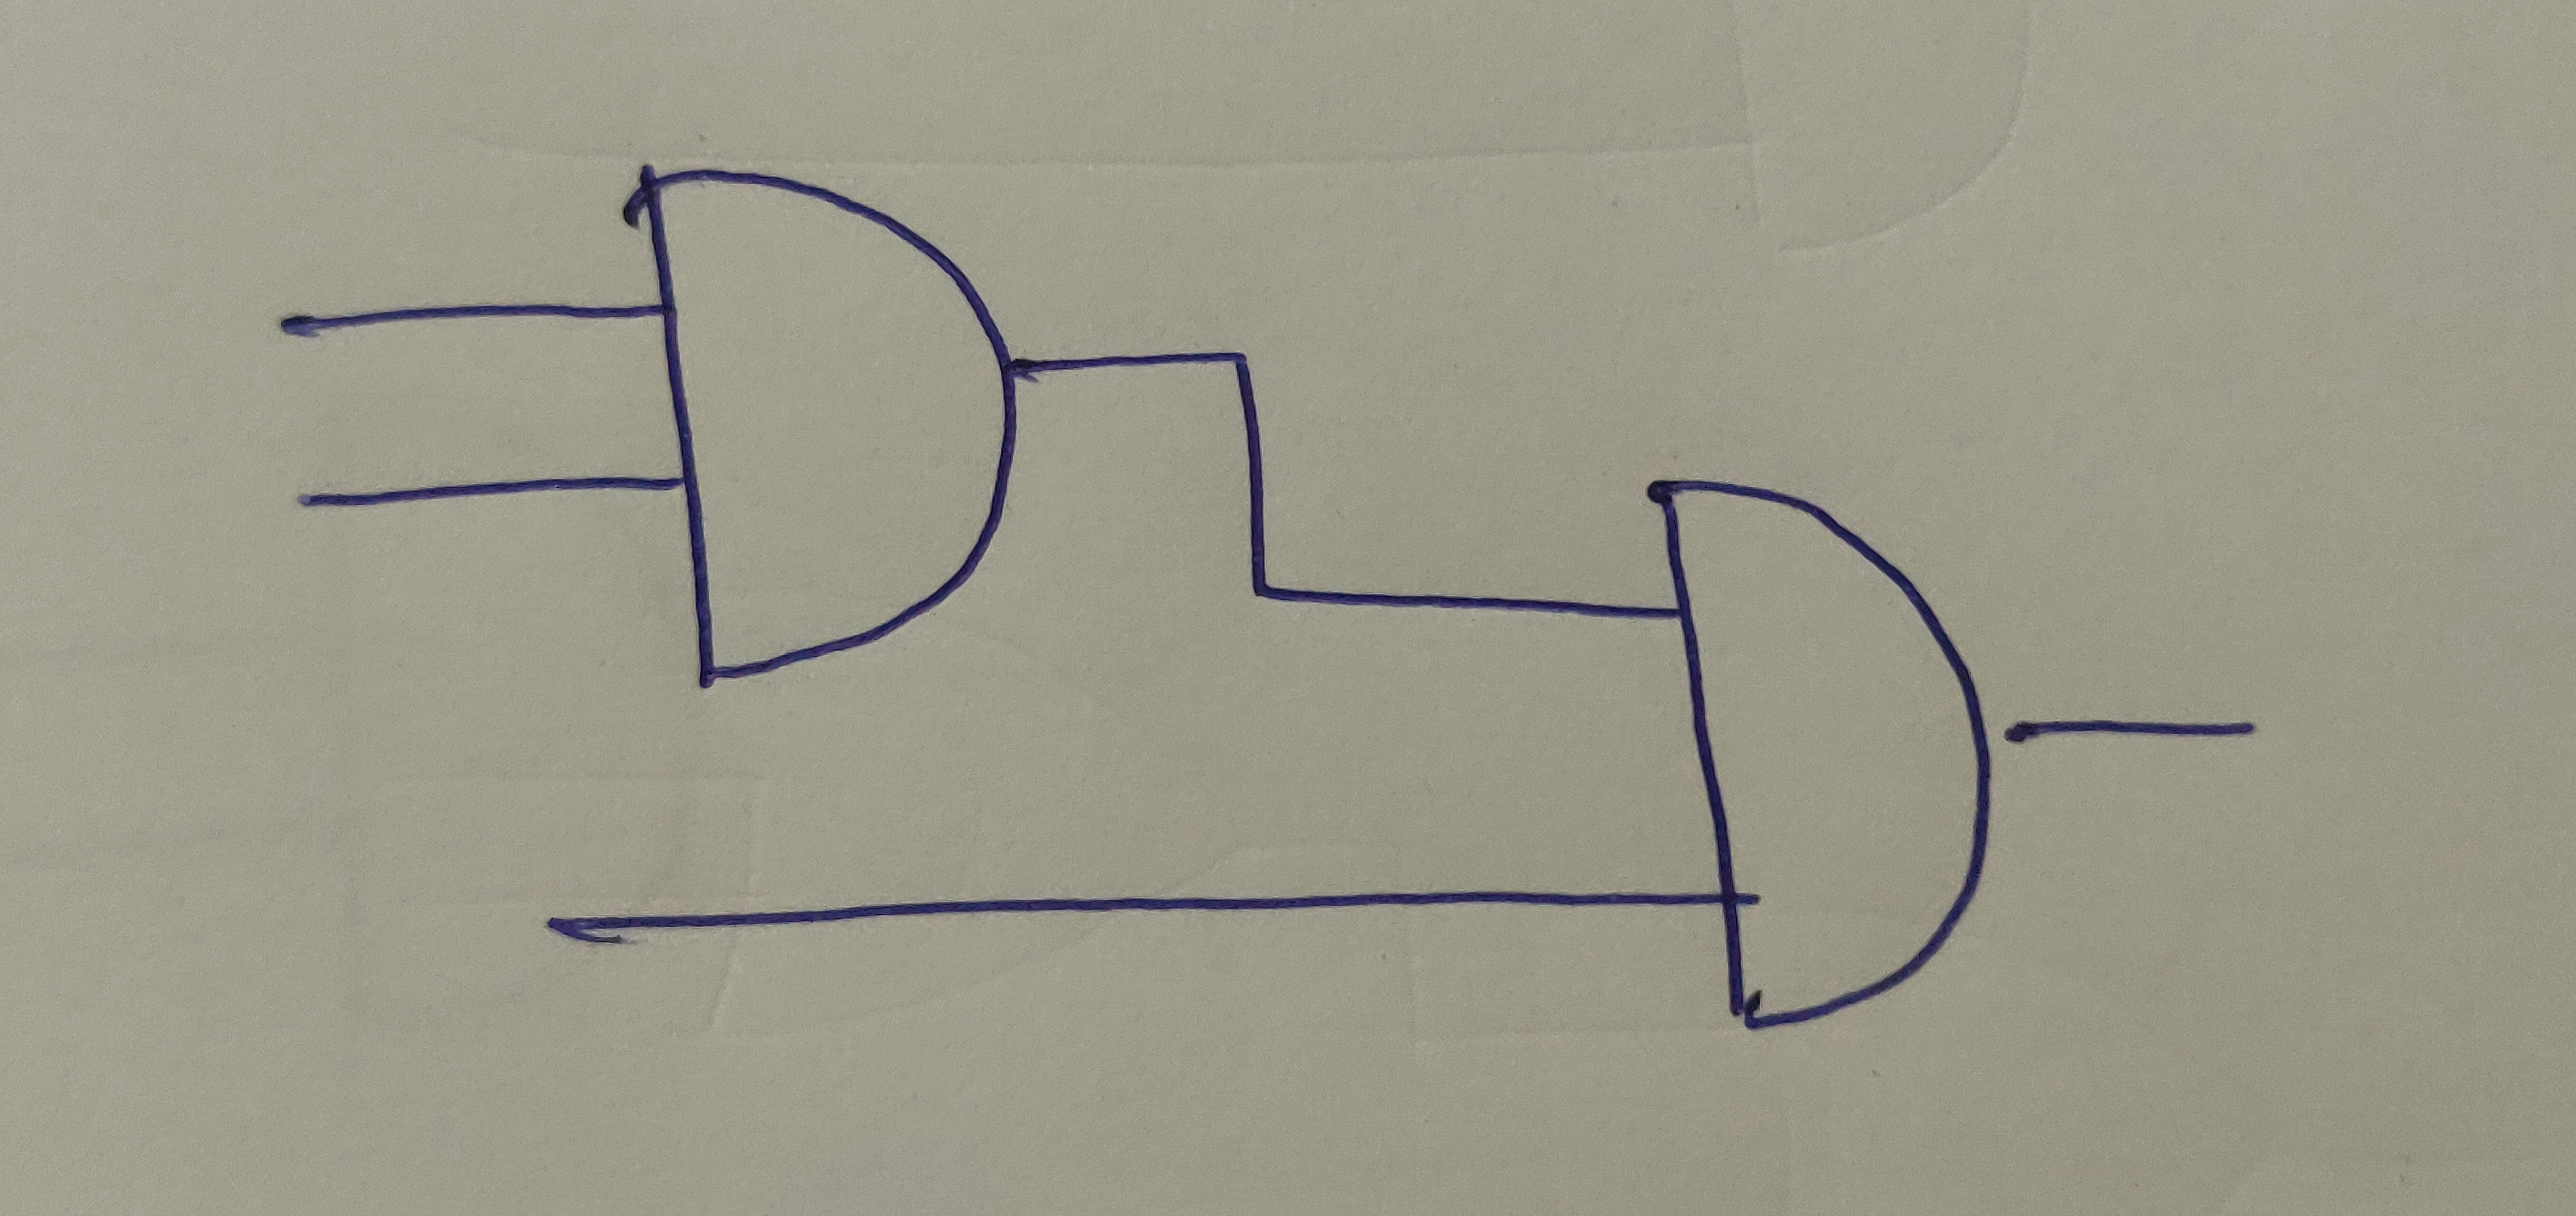and: (634, 166, 1012, 684), (1649, 473, 1994, 1039)
